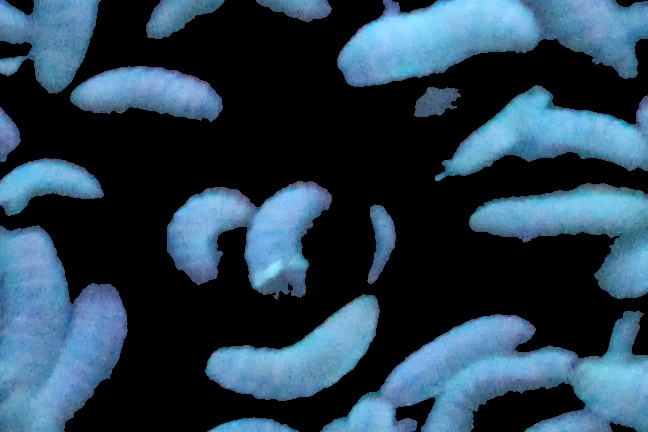larvae: (381, 291, 537, 406), (203, 297, 378, 399), (336, 1, 537, 88), (2, 224, 63, 427), (428, 349, 576, 431), (56, 277, 132, 421), (463, 179, 648, 238), (168, 174, 251, 303), (245, 184, 336, 300), (444, 78, 544, 182), (63, 63, 230, 122), (540, 98, 645, 173), (30, 1, 105, 89), (575, 348, 648, 422), (1, 160, 105, 208), (137, 1, 226, 39), (229, 1, 334, 30), (363, 205, 399, 283)
